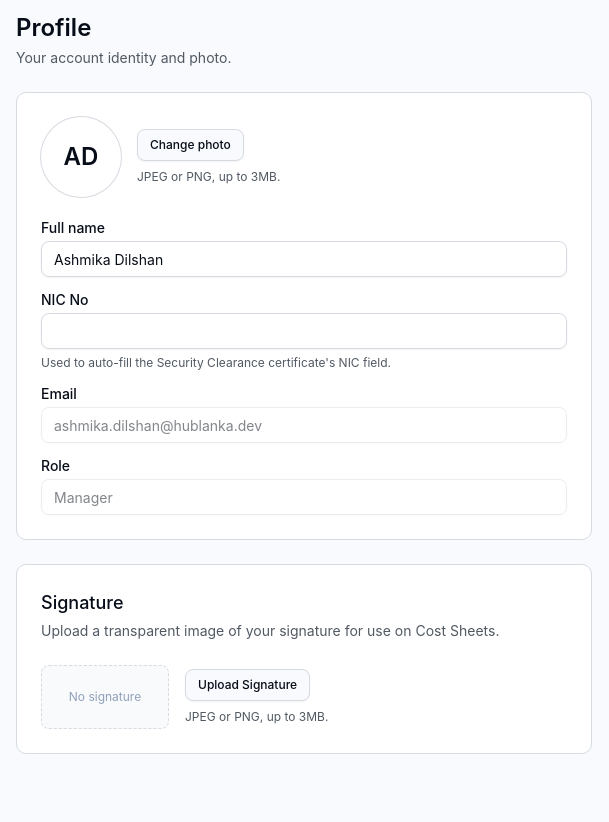
Test: ProfilePage › shows Save/Cancel only once the name is edited, and Cancel restores the original value
Expected: the button "Save" is not shown
Replace the text in the field labelled "Full name" with "New Name": coordinates (304, 259) [41,241,567,277]
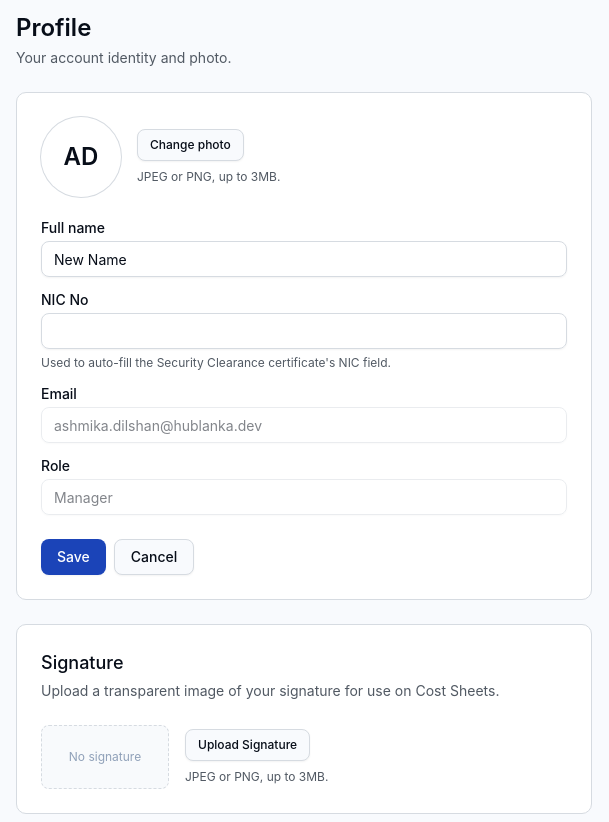
Expected: the button "Save" is shown, [41,539,106,575]
Click the button "Cancel": coordinates (154, 557) [114,539,194,575]
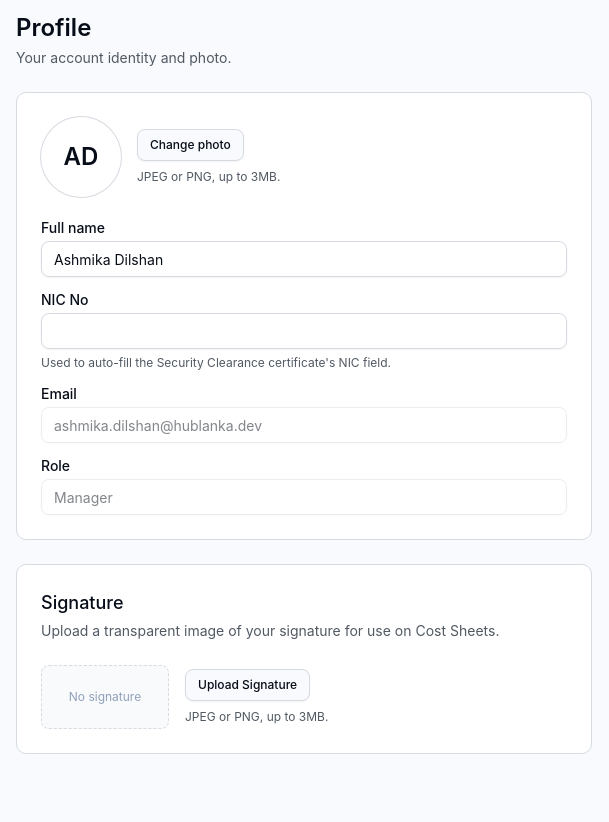
Expected: the field labelled "Full name" holds "Ashmika Dilshan", [41,241,567,277]
Expected: the button "Save" is gone
